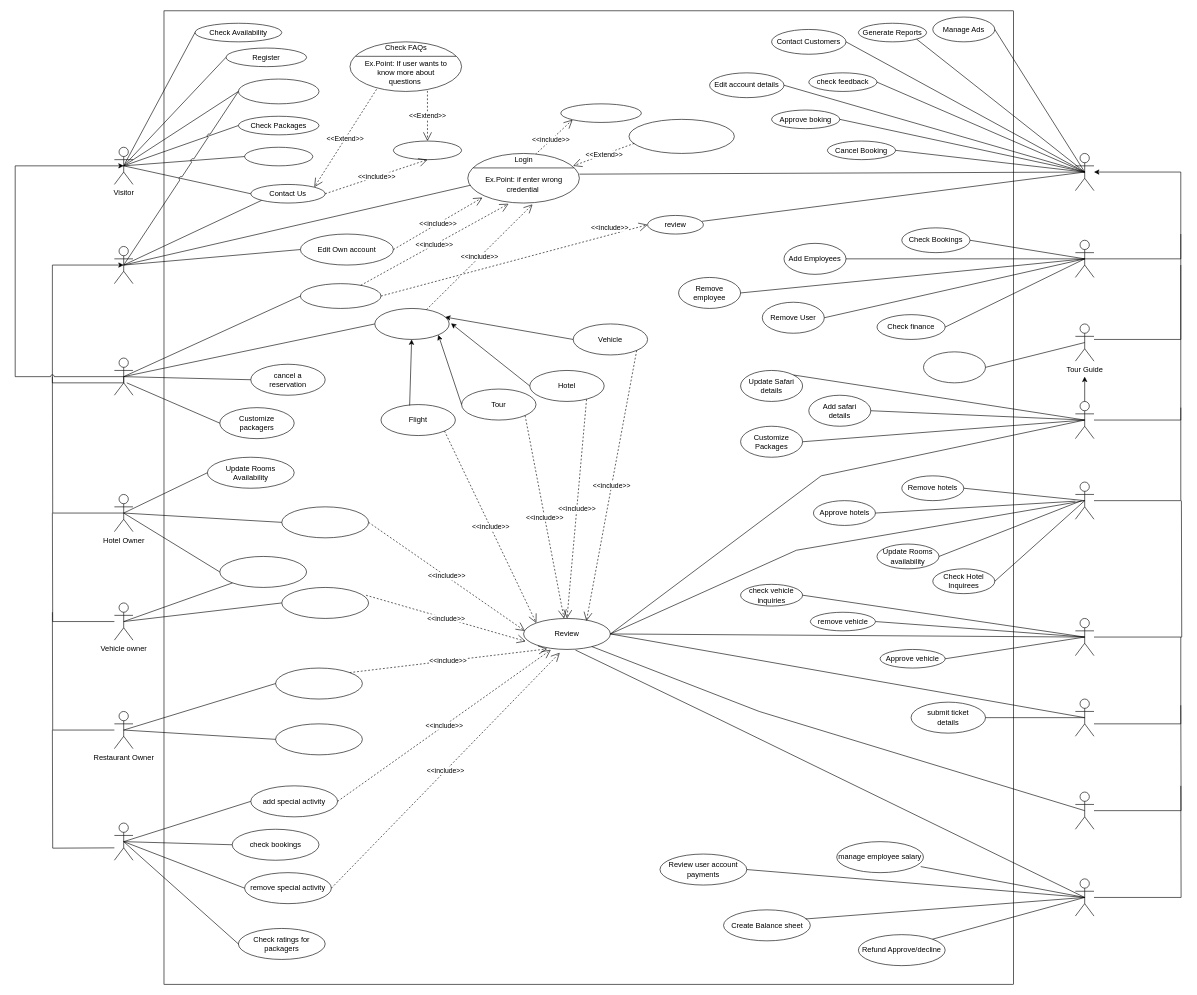
Image size: 1197x995. Some labels were removed from this diagram. Here are the shapes that lost their labels. From the top down, the centre of each, then its label:
the point at 278,91: view Feedback
the point at 600,112: Validate User
the point at 278,156: Check FAQ
the point at 427,150: Send a message
the point at 681,136: Username or Password Error
the point at 1084,172: User
the point at 123,265: Registered user
the point at 1084,258: Admin
the point at 340,295: add a feedback
the point at 411,323: Reservation
the point at 123,376: Customer
the point at 954,367: Reply to users' Messages
the point at 1084,420: Tour Manager
the point at 1084,500: Residence Manager
the point at 325,522: Add/update Hotel details
the point at 263,571: View Booking list
the point at 325,602: Add/update a vehicle details
the point at 1084,637: Vehicle Reservation Manager
the point at 318,683: Add/update a Resturant details
the point at 1084,717: Flight Booking Manager
the point at 318,739: View Booking lists
the point at 1084,810: Restaurant and special activity Manger
the point at 123,841: Special Activity provider
the point at 1084,897: Finance Manager
